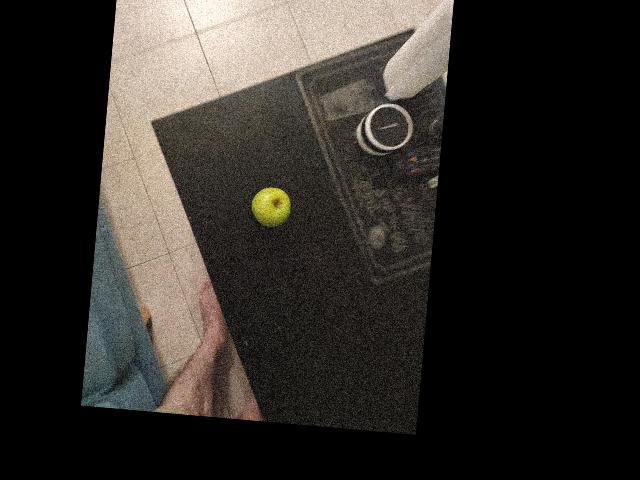apple: (185, 112, 234, 161)
